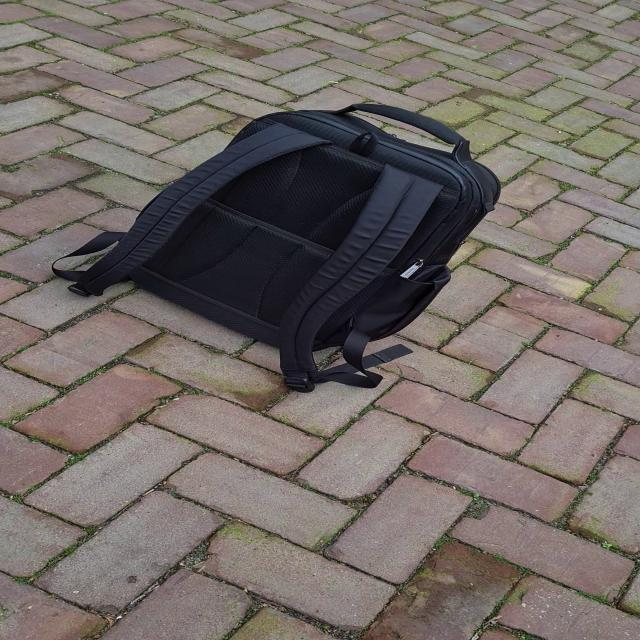backpack: (64, 105, 505, 392)
